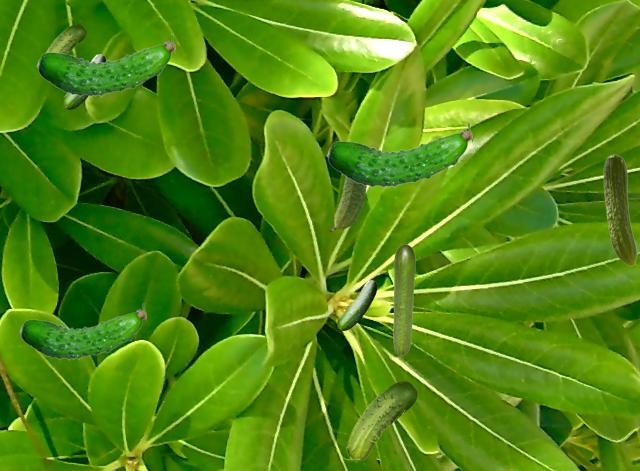cucumber: (326, 122, 471, 187), (36, 34, 174, 96), (19, 303, 145, 359), (346, 381, 416, 459), (603, 154, 636, 265), (393, 244, 414, 355), (62, 54, 104, 108), (329, 177, 366, 230), (337, 280, 375, 329), (46, 24, 85, 53)
